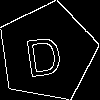D: (22, 27, 64, 78)
